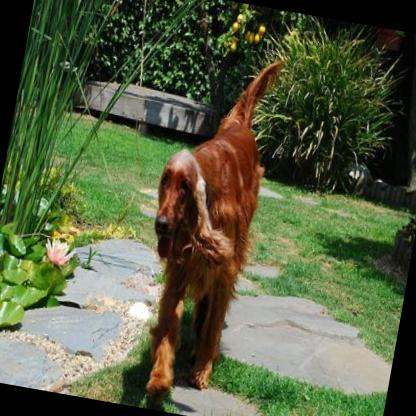Irish_setter: (119, 39, 284, 409)
